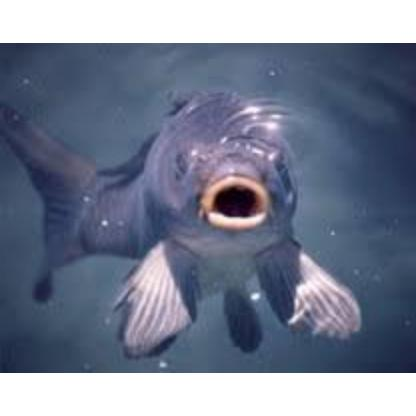ikan-mas: (22, 76, 338, 348)
